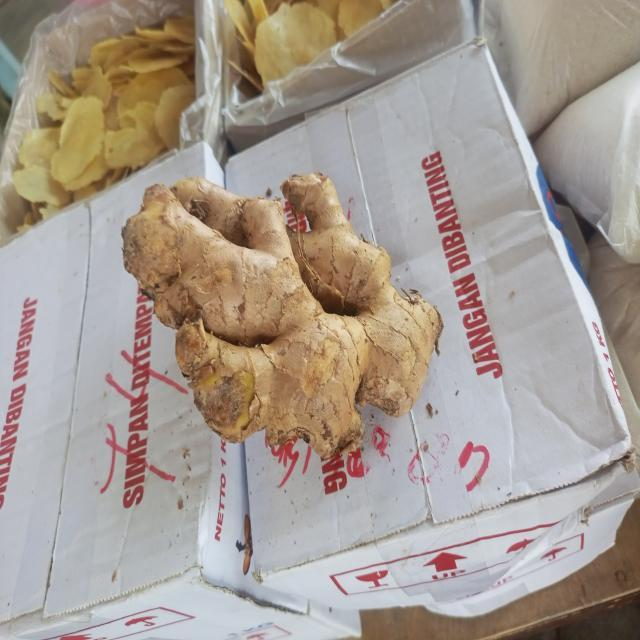ginger: (125, 175, 442, 452)
